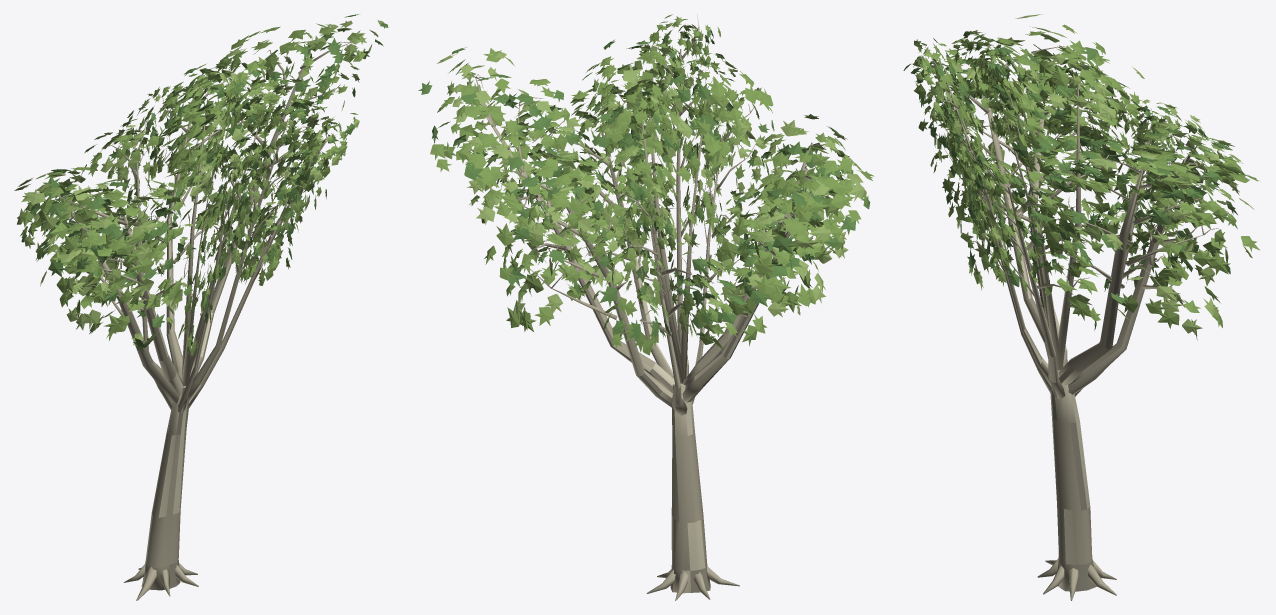
3 renders of one model, left to right at view 1: azimuth 30°, elevation 25°; view 2: azimuth 150°, elevation 25°; view 3: azimuth 270°, elevation 25°, orthographic. The views are drawn at different scales.
Parts seen in each view (by area): view 1: tree_plane_a_PlaneLeaf, tree_plane_a_PlaneBark, tree_plane_a_PlaneLeafLight, tree_plane_a_PlaneLeafDark, tree_plane_a_PlaneBarkPale, tree_plane_a_PlaneBarkBrown; view 2: tree_plane_a_PlaneLeaf, tree_plane_a_PlaneLeafLight, tree_plane_a_PlaneBark, tree_plane_a_PlaneLeafDark, tree_plane_a_PlaneBarkPale, tree_plane_a_PlaneBarkBrown; view 3: tree_plane_a_PlaneLeaf, tree_plane_a_PlaneBark, tree_plane_a_PlaneLeafDark, tree_plane_a_PlaneLeafLight, tree_plane_a_PlaneBarkPale, tree_plane_a_PlaneBarkBrown.
Part boxes in pixels (x1,y1,x2,y2): tree_plane_a_PlaneLeaf: (14, 23, 366, 355); tree_plane_a_PlaneBark: (38, 42, 352, 600); tree_plane_a_PlaneLeafLight: (17, 20, 388, 355); tree_plane_a_PlaneLeafDark: (21, 14, 387, 351); tree_plane_a_PlaneBarkPale: (98, 88, 293, 562); tree_plane_a_PlaneBarkBrown: (119, 68, 303, 588); tree_plane_a_PlaneLeaf: (430, 14, 874, 355); tree_plane_a_PlaneLeafLight: (437, 16, 864, 337); tree_plane_a_PlaneBark: (465, 14, 826, 600); tree_plane_a_PlaneLeafDark: (418, 21, 870, 343); tree_plane_a_PlaneBarkPale: (487, 49, 788, 593); tree_plane_a_PlaneBarkBrown: (552, 132, 787, 592); tree_plane_a_PlaneLeaf: (913, 24, 1260, 340); tree_plane_a_PlaneBark: (918, 41, 1218, 600); tree_plane_a_PlaneLeafDark: (903, 31, 1246, 304); tree_plane_a_PlaneLeafLight: (912, 14, 1254, 334); tree_plane_a_PlaneBarkPale: (948, 84, 1190, 564); tree_plane_a_PlaneBarkBrown: (947, 83, 1189, 591).
Size of the model in its own units: 13.21 by 16.41 by 9.24.
